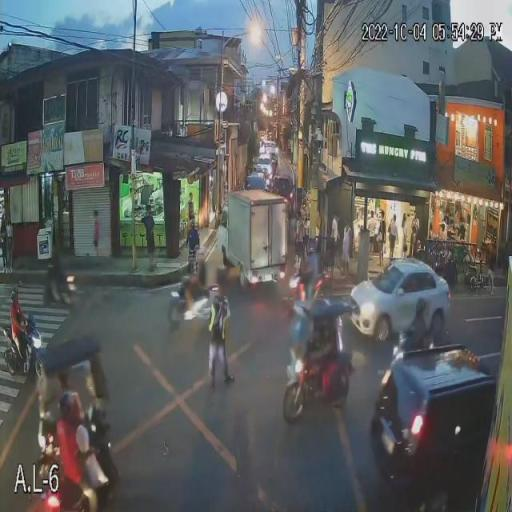helmet: (60, 390, 82, 416), (414, 297, 428, 315), (11, 289, 20, 300)
motorcycle: (37, 336, 121, 512), (282, 318, 352, 424), (2, 310, 46, 377), (167, 282, 219, 328), (384, 328, 450, 356), (285, 269, 329, 308)
rider: (56, 390, 110, 512), (304, 318, 346, 394), (10, 288, 36, 350), (180, 258, 206, 310), (295, 242, 321, 294), (407, 313, 429, 352)
